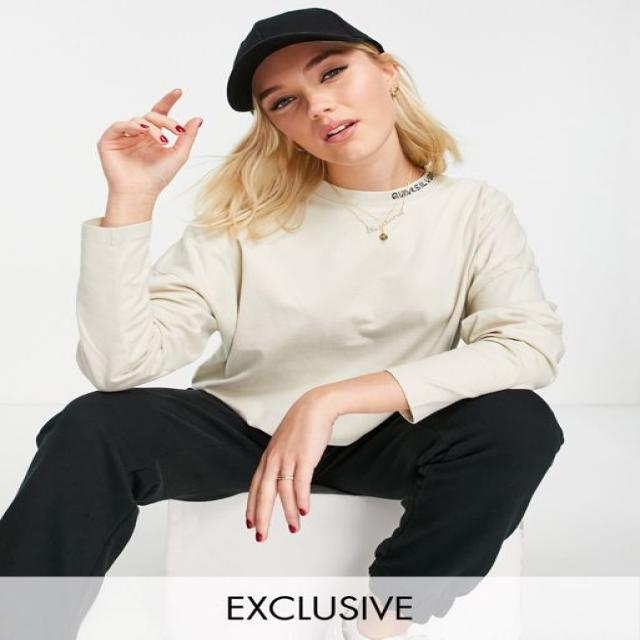tshirt: (74, 165, 564, 447)
